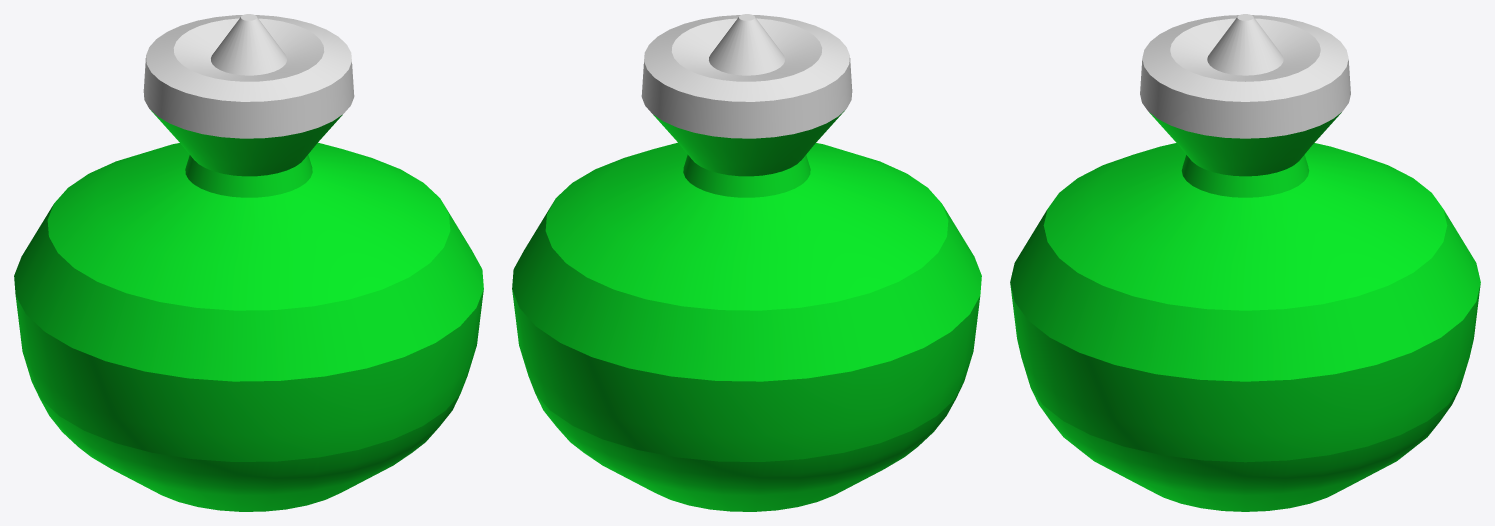
File: bottle45.glb
The picture shows the model from 3 angles, left to right: view 1: azimuth 30°, elevation 25°; view 2: azimuth 150°, elevation 25°; view 3: azimuth 270°, elevation 25°; orthographic projection.
Parts seen in each view (by area): view 1: Bottle45; view 2: Bottle45; view 3: Bottle45.
Part boxes in pixels (x1,y1,x2,y2): Bottle45: [14, 14, 483, 511]; Bottle45: [512, 14, 981, 511]; Bottle45: [1010, 14, 1480, 511].
Size of the model in its own units: 11.5 by 12.01 by 11.5.
